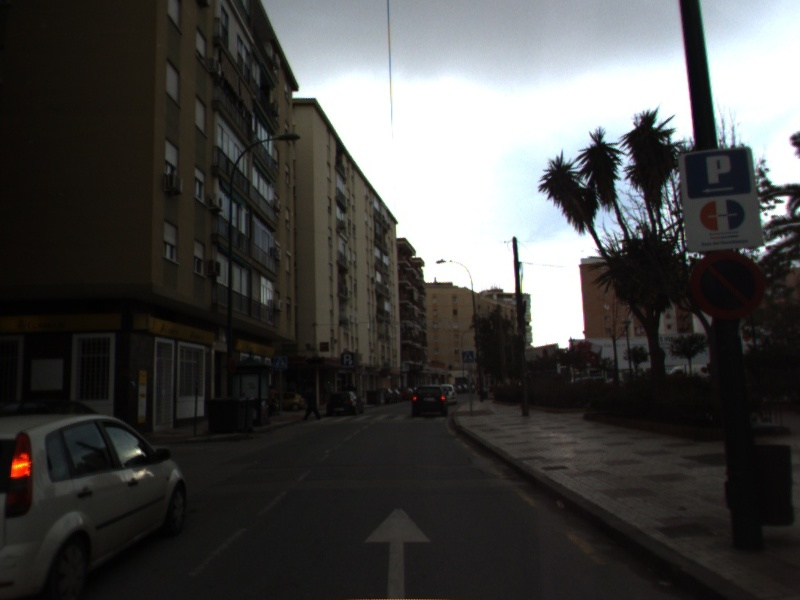STRAIGHT: (361, 505, 434, 600)
